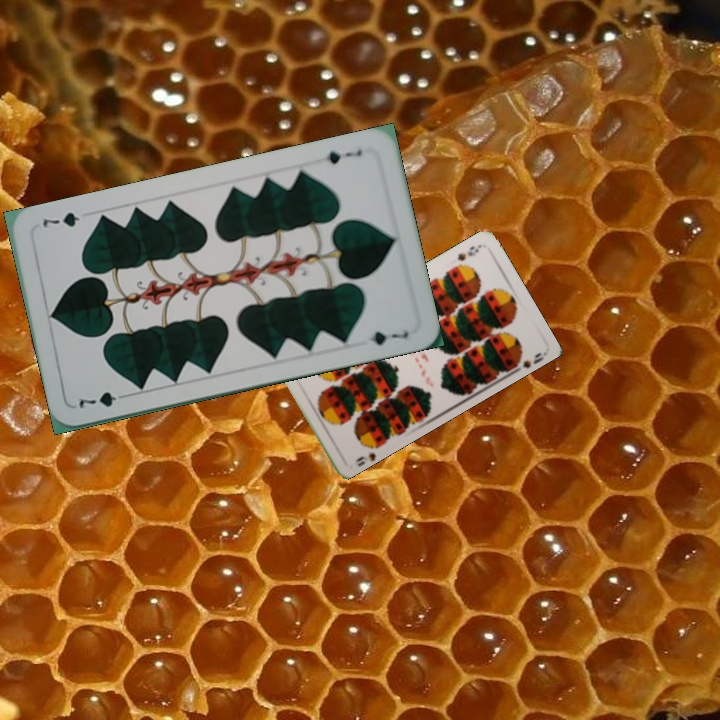G7: (74, 387, 132, 411), (322, 145, 365, 167)
S9: (351, 436, 382, 468), (453, 241, 483, 263)
